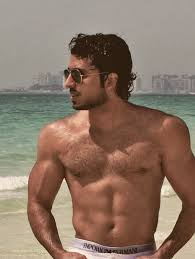middle_eastern_male: (66, 52, 112, 111)
